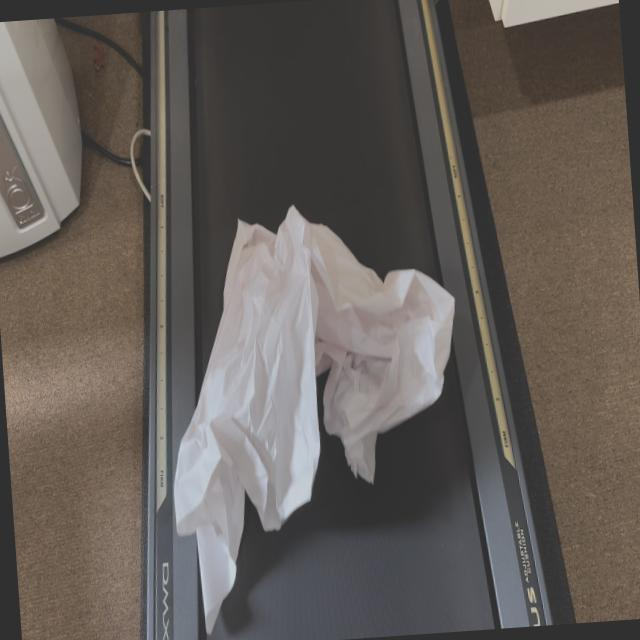Recycle: (152, 192, 479, 640)
